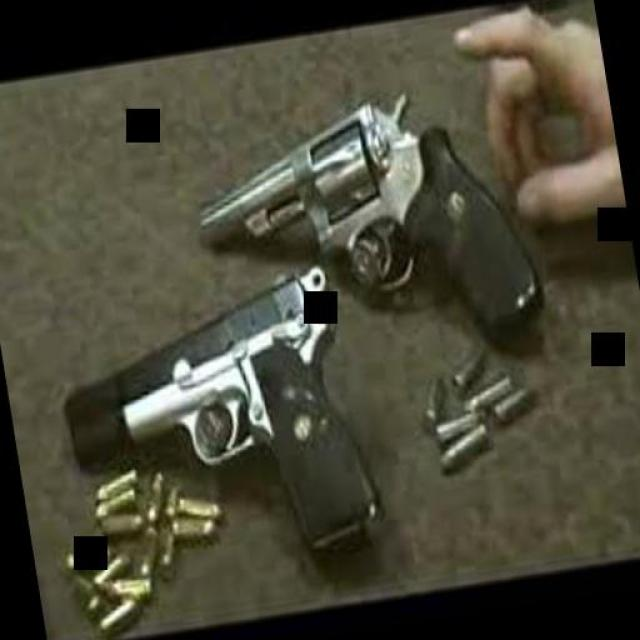gun: (174, 68, 548, 382), (44, 250, 392, 576)
